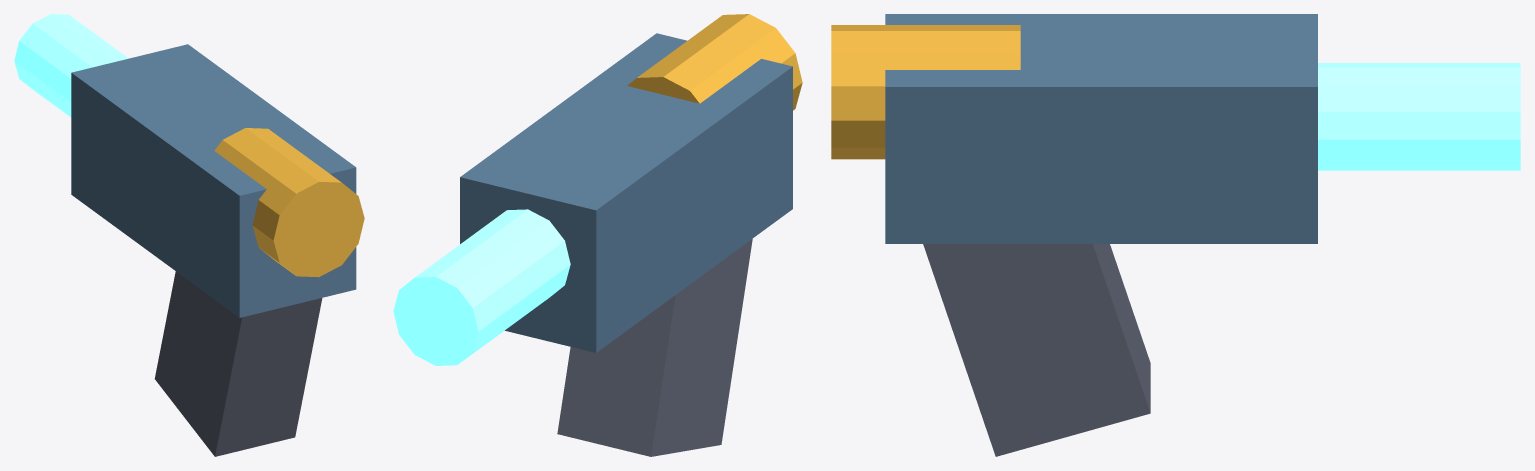
Rendered from Blaster.fbx.
The picture shows the model from 3 angles, left to right: view 1: azimuth 30°, elevation 25°; view 2: azimuth 150°, elevation 25°; view 3: azimuth 270°, elevation 25°; orthographic projection. The views are drawn at different scales.
Parts seen in each view (by area): view 1: Body.015, Grip, Cell, Barrel; view 2: Body.015, Grip, Barrel, Cell; view 3: Body.015, Grip, Barrel, Cell.
Boxes of the visible parts, left/top/right/bottom form: Body.015: left=71, top=44, right=356, bottom=317; Grip: left=154, top=271, right=322, bottom=456; Cell: left=214, top=128, right=364, bottom=277; Barrel: left=14, top=14, right=128, bottom=117; Body.015: left=460, top=33, right=792, bottom=352; Grip: left=557, top=239, right=752, bottom=456; Barrel: left=393, top=209, right=570, bottom=365; Cell: left=627, top=14, right=802, bottom=110; Body.015: left=885, top=14, right=1317, bottom=243; Grip: left=923, top=244, right=1150, bottom=456; Barrel: left=1318, top=63, right=1520, bottom=170; Cell: left=831, top=25, right=1020, bottom=159.
Size of the model in its own units: 64 by 164 by 255.
